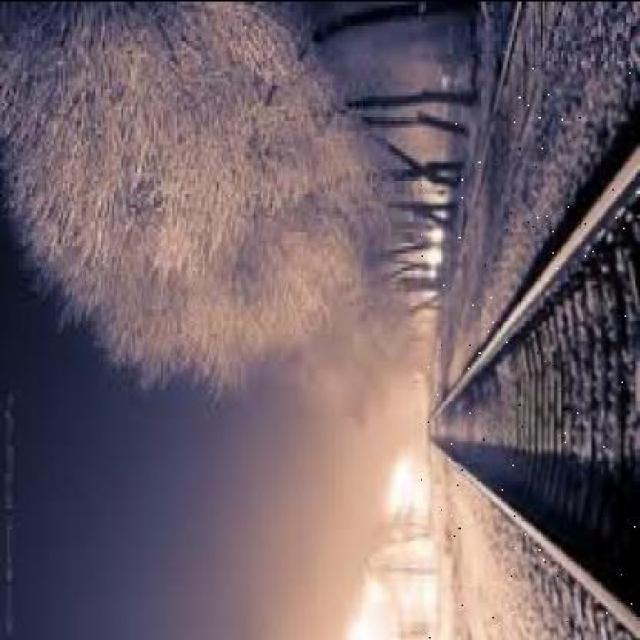rail: (418, 66, 635, 640)
